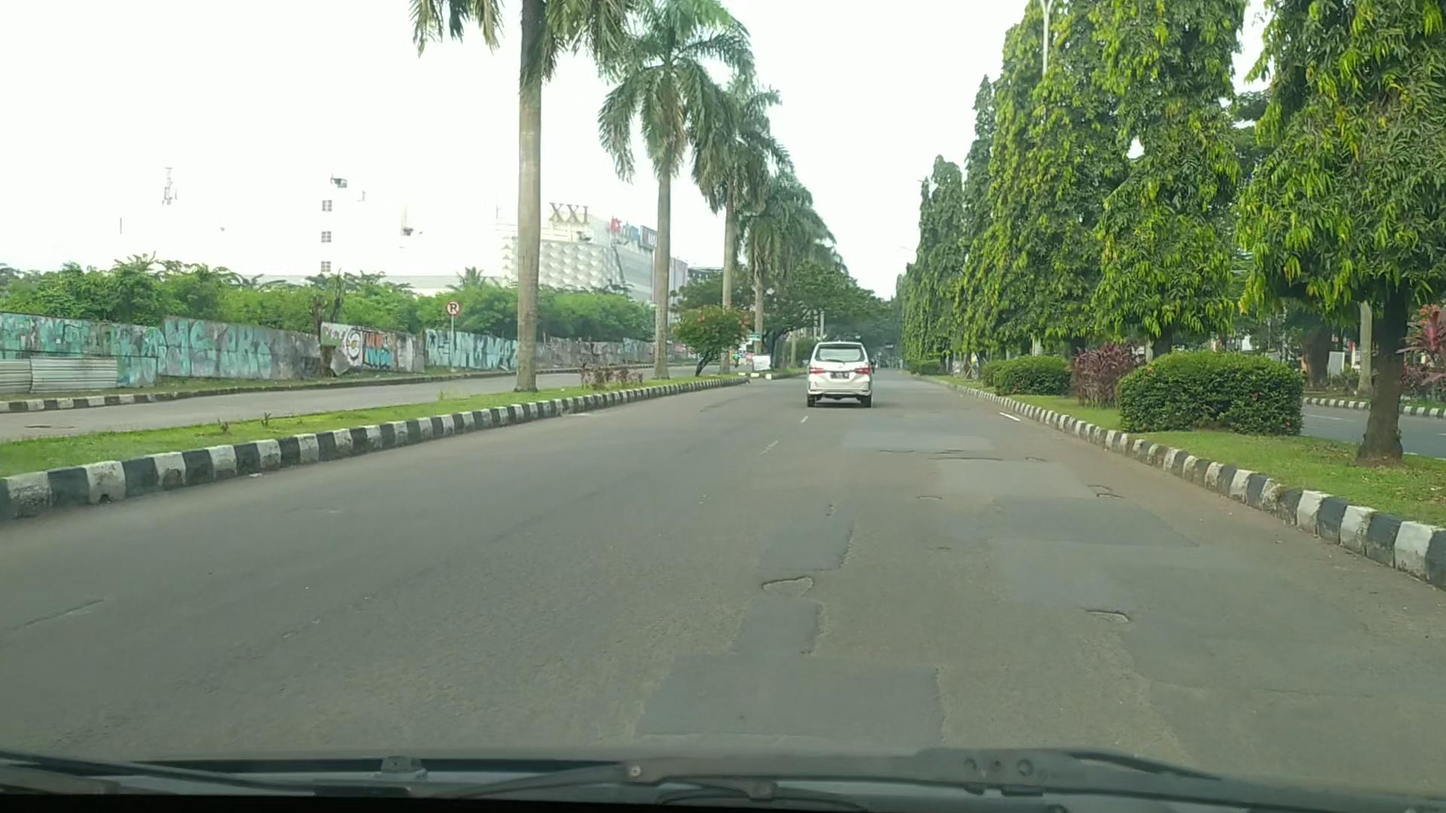pothole: (760, 574, 817, 600), (1084, 609, 1130, 625), (927, 457, 1002, 461), (1086, 484, 1112, 493), (1096, 493, 1125, 500), (916, 495, 941, 501), (1026, 456, 1046, 462)
